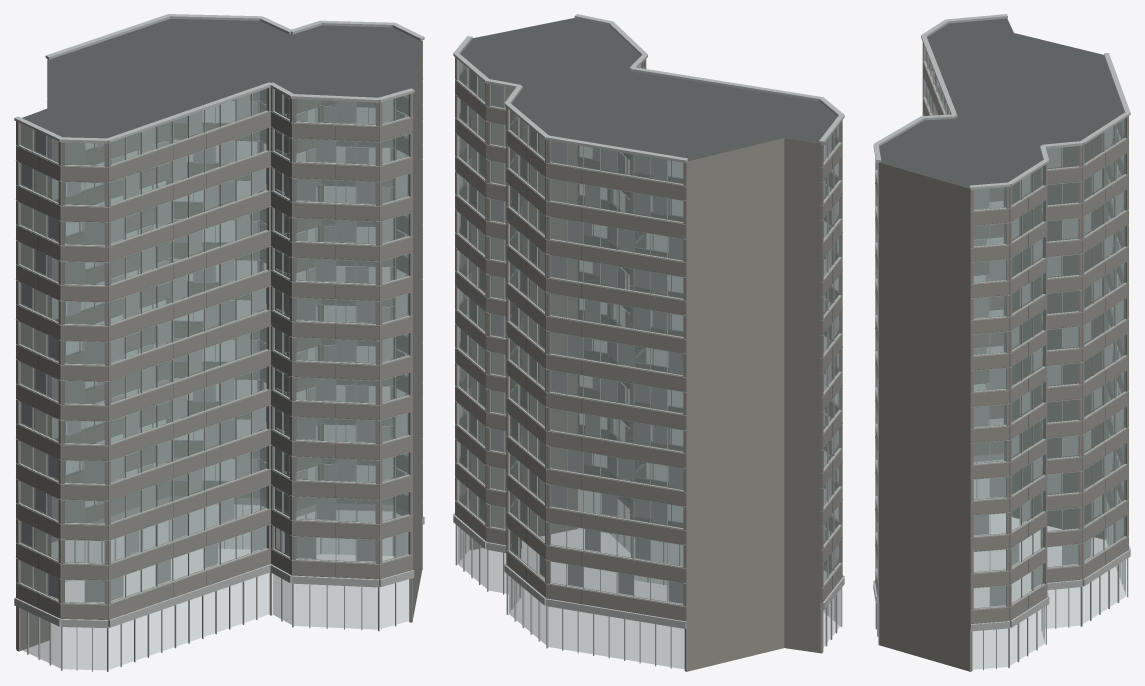
Rendered from faw-exterior-a12501a927fe.glb.
3 views of the same model, side by side, from view 1: azimuth 30°, elevation 25°; view 2: azimuth 150°, elevation 25°; view 3: azimuth 270°, elevation 25° (orthographic). The views are drawn at different scales.
Visible parts, largest first — view 1: FAW.001; view 2: FAW.001; view 3: FAW.001.
Boxes of the visible parts, x1=… form: FAW.001: x1=14, y1=14, x2=424, y2=671; FAW.001: x1=453, y1=14, x2=844, y2=671; FAW.001: x1=873, y1=14, x2=1130, y2=671.
Size of the model in its own units: 33.96 by 44.23 by 21.26.
